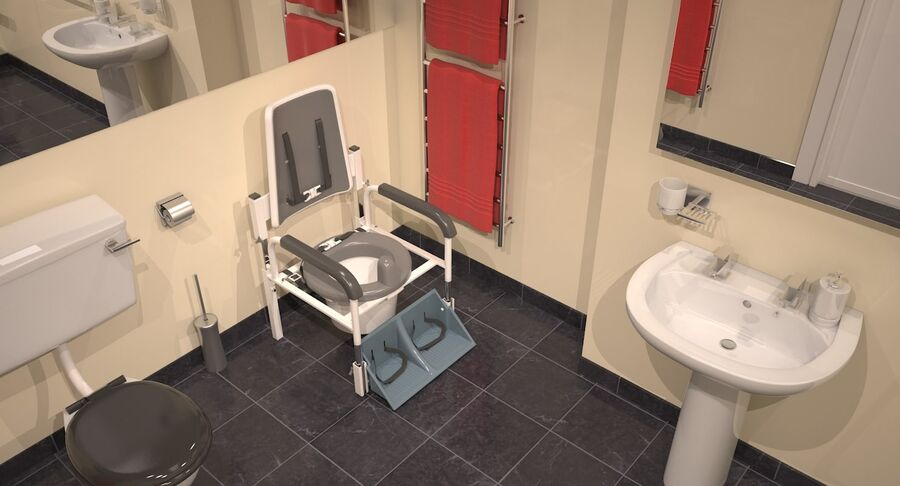dispenser: (156, 193, 200, 233)
faucet: (710, 244, 740, 280), (784, 273, 810, 311)
restroom_assist_bar: (267, 235, 364, 330), (364, 182, 458, 264)
sink: (625, 240, 866, 406), (60, 21, 152, 54)
toilet: (264, 94, 412, 333), (56, 372, 214, 484)
toilet_handle: (105, 234, 143, 256)
